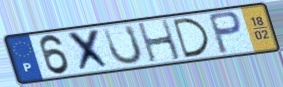6: (38, 34, 71, 76)
D: (170, 17, 212, 60)
H: (136, 18, 183, 64)
P: (206, 10, 244, 55)
U: (101, 24, 145, 67)
X: (65, 27, 113, 74)
